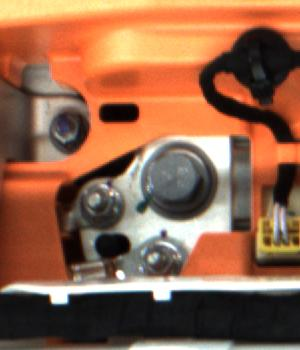nut_b: (140, 139, 216, 216)
